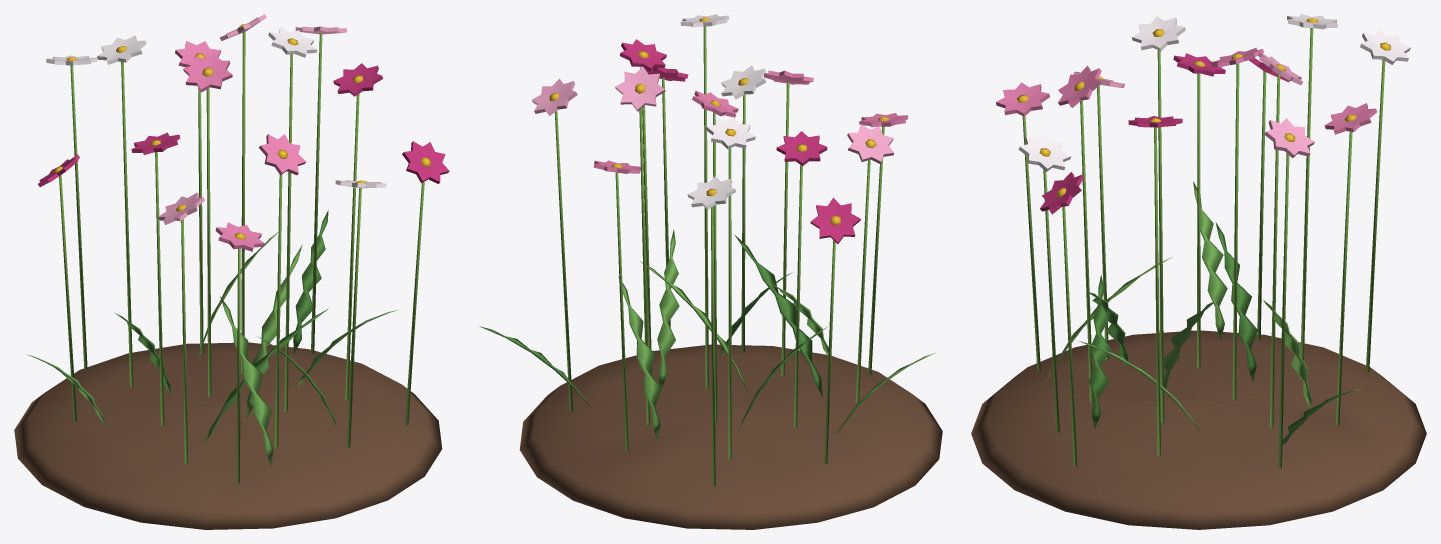
Rendered from cosmos.glb.
3 views of the same model, side by side, from view 1: azimuth 30°, elevation 25°; view 2: azimuth 150°, elevation 25°; view 3: azimuth 270°, elevation 25° (orthographic). The views are drawn at different scales.
Parts seen in each view (by area): view 1: cosmos; view 2: cosmos; view 3: cosmos.
Part boxes in pixels (x1,y1,x2,y2): cosmos: (14, 14, 449, 529); cosmos: (479, 14, 942, 529); cosmos: (971, 14, 1426, 529).
Bounding box in the file's own units: 0.8854 × 0.8787 × 0.84.
